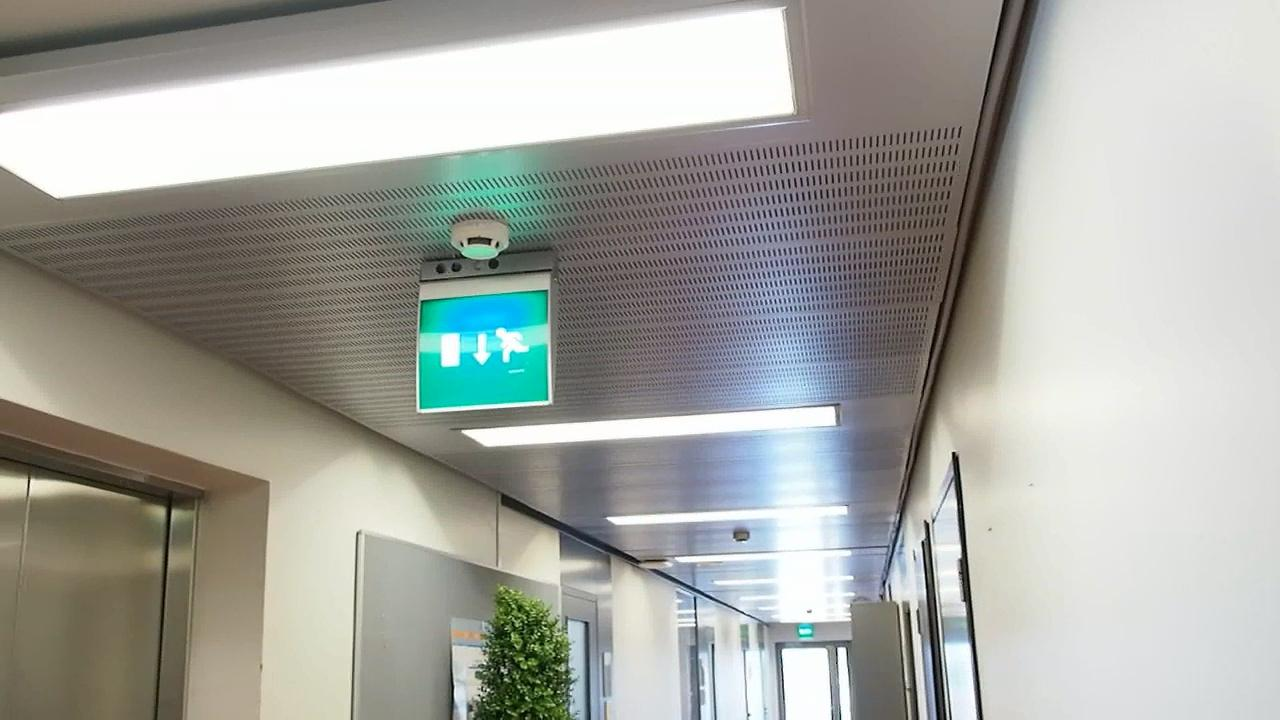exit: (410, 291, 553, 417)
